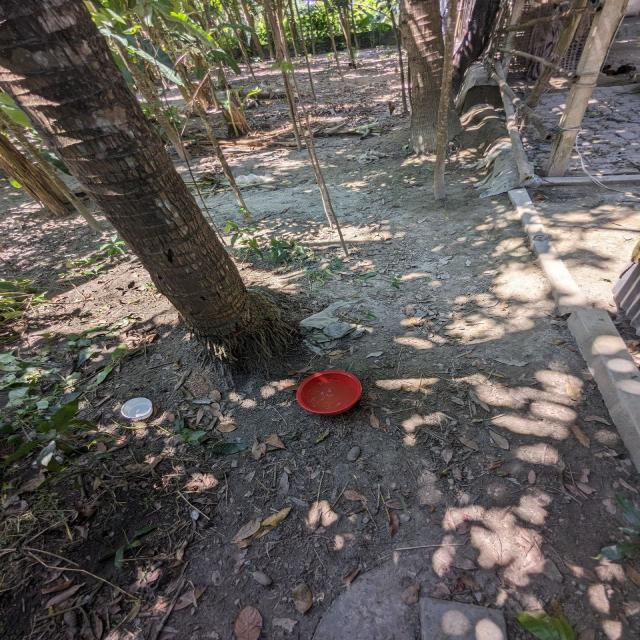Breeding Place: (0, 305, 226, 640), (166, 73, 341, 151), (282, 364, 378, 430), (107, 391, 168, 434)
